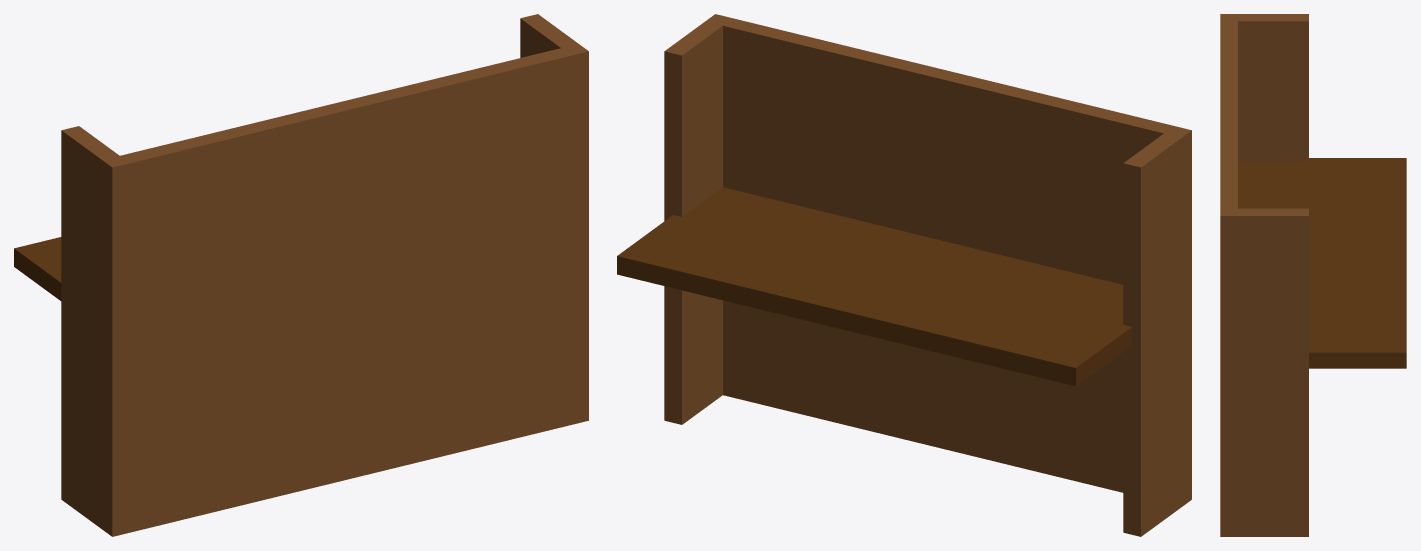
The model's file is Desk Model.FBX.
3 views of the same model, side by side, from view 1: azimuth 30°, elevation 25°; view 2: azimuth 150°, elevation 25°; view 3: azimuth 270°, elevation 25° (orthographic). The views are drawn at different scales.
Parts seen in each view (by area): view 1: Desk, desk001, desk, Desk001; view 2: Desk, Desk001, desk001, desk; view 3: desk, Desk001, desk001, Desk.
Part boxes in pixels (x1=…): Desk: x1=111, y1=46, x2=579, y2=534; desk001: x1=61, y1=126, x2=129, y2=536; desk: x1=520, y1=14, x2=588, y2=424; Desk001: x1=14, y1=237, x2=61, y2=300; Desk: x1=714, y1=16, x2=1179, y2=492; Desk001: x1=617, y1=187, x2=1132, y2=386; desk001: x1=1123, y1=126, x2=1191, y2=536; desk: x1=664, y1=14, x2=726, y2=424; desk: x1=1220, y1=208, x2=1308, y2=536; Desk001: x1=1238, y1=158, x2=1406, y2=368; desk001: x1=1220, y1=14, x2=1308, y2=161; Desk: x1=1220, y1=17, x2=1237, y2=212.
Size of the model in its own units: 27 by 20 by 10.52.
